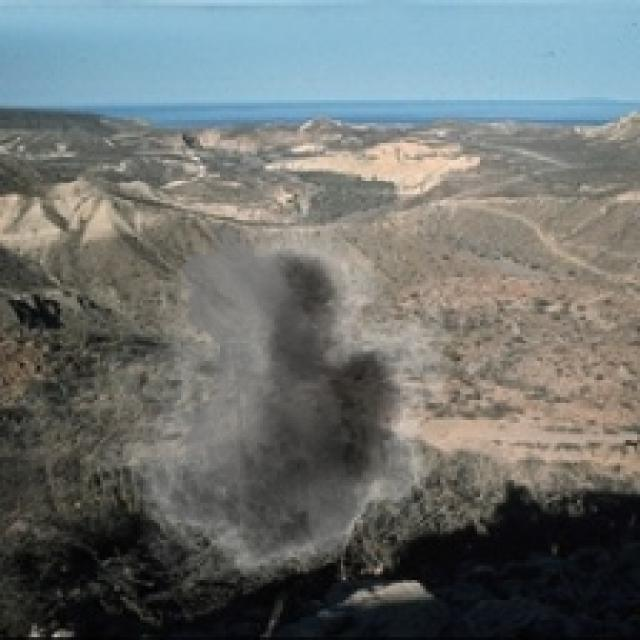smoke: (80, 214, 469, 597)
